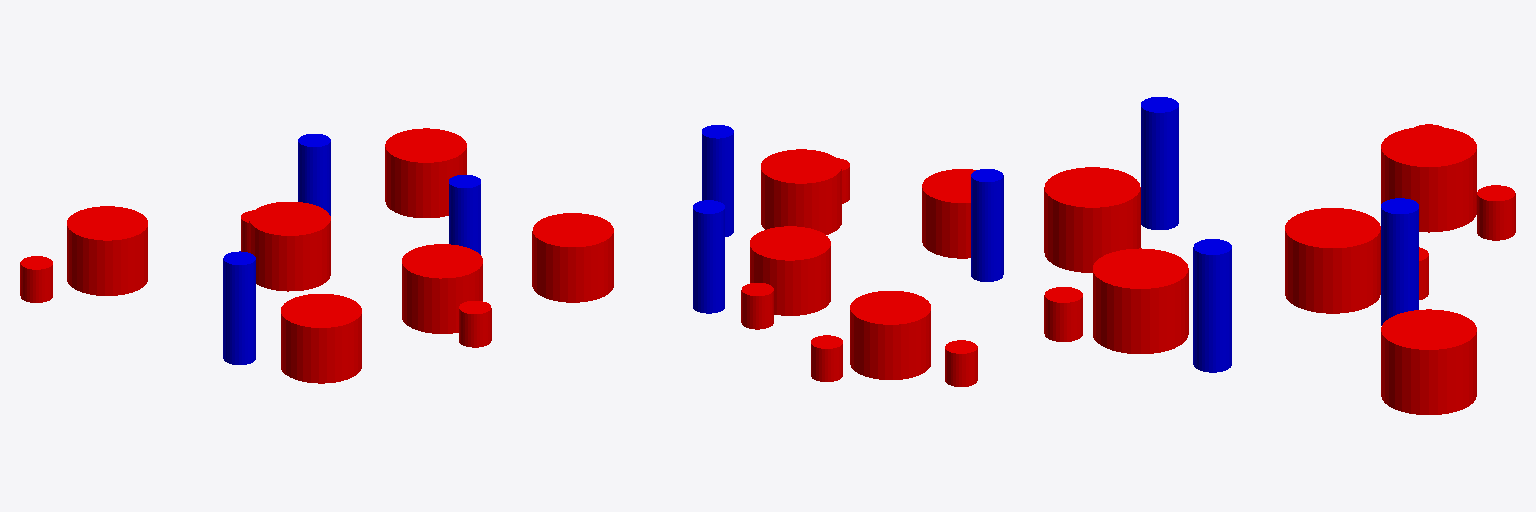
URDF robot description (Obstacles):
<?xml version="1.0" encoding="utf-8"?>
<robot name="Obstacles">
  <link name="obstacle_base_link"></link>

  <link name="table1_link">
    <visual>
      <origin rpy="0 0 0" xyz="1.5 1.0 0.375"/>
      <geometry>
        <cylinder length="0.75" radius="0.5"/>
      </geometry>
      <material name="Red">
        <color rgba="1.0 0.0 0.0 1.0"/>
      </material>
    </visual>
    <collision>
      <origin rpy="0 0 0" xyz="1.5 1.0 0.375"/>
      <geometry>
        <cylinder length="0.75" radius="0.5"/>
      </geometry>
    </collision>
  </link>
  <joint name="table1_link_joint" type="fixed">
    <parent link="obstacle_base_link"/>
    <child link="table1_link"/>
    <origin rpy="0 0 0" xyz="0 0 0"/>
  </joint>

  <link name="chair1_1_link">
    <visual>
      <origin rpy="0 0 0" xyz="0.5 1.0 0.225"/>
      <geometry>
        <cylinder length="0.45" radius="0.2"/>
      </geometry>
      <material name="Red">
        <color rgba="1.0 0.0 0.0 1.0"/>
      </material>
    </visual>
    <collision>
      <origin rpy="0 0 0" xyz="0.5 1.0 0.225"/>
      <geometry>
        <cylinder length="0.45" radius="0.2"/>
      </geometry>
    </collision>
  </link>
  <joint name="chair1_1_link_joint" type="fixed">
    <parent link="obstacle_base_link"/>
    <child link="chair1_1_link"/>
    <origin rpy="0 0 0" xyz="0 0 0"/>
  </joint>

  <link name="chair1_2_link">
    <visual>
      <origin rpy="0 0 0" xyz="2.0 1.7 0.225"/>
      <geometry>
        <cylinder length="0.45" radius="0.2"/>
      </geometry>
      <material name="Red">
        <color rgba="1.0 0.0 0.0 1.0"/>
      </material>
    </visual>
    <collision>
      <origin rpy="0 0 0" xyz="2.0 1.7 0.225"/>
      <geometry>
        <cylinder length="0.45" radius="0.2"/>
      </geometry>
    </collision>
  </link>
  <joint name="chair1_2_link_joint" type="fixed">
    <parent link="obstacle_base_link"/>
    <child link="chair1_2_link"/>
    <origin rpy="0 0 0" xyz="0 0 0"/>
  </joint>

  <link name="table2_link">
    <visual>
      <origin rpy="0 0 0" xyz="2.5 -2.5 0.375"/>
      <geometry>
        <cylinder length="0.75" radius="0.5"/>
      </geometry>
      <material name="Red">
        <color rgba="1.0 0.0 0.0 1.0"/>
      </material>
    </visual>
    <collision>
      <origin rpy="0 0 0" xyz="2.5 -2.5 0.375"/>
      <geometry>
        <cylinder length="0.75" radius="0.5"/>
      </geometry>
    </collision>
  </link>

  <joint name="table2_link_joint" type="fixed">
    <parent link="obstacle_base_link"/>
    <child link="table2_link"/>
    <origin rpy="0 0 0" xyz="0 0 0"/>
  </joint>

  <link name="chair2_1_link">
    <visual>
      <origin rpy="0 0 0" xyz="1.75 -1.8 0.675"/>
      <geometry>
        <cylinder length="1.35" radius="0.2"/>
      </geometry>
      <material name="Blue">
        <color rgba="0.0 0.0 1.0 1.0"/>
      </material>
    </visual>
    <collision>
      <origin rpy="0 0 0" xyz="1.75 -1.8 0.675"/>
      <geometry>
        <cylinder length="1.35" radius="0.2"/>
      </geometry>
    </collision>
  </link>
  <joint name="chair2_1_link_joint" type="fixed">
    <parent link="obstacle_base_link"/>
    <child link="chair2_1_link"/>
    <origin rpy="0 0 0" xyz="0 0 0"/>
  </joint>

  <link name="table3_link">
    <visual>
      <origin rpy="0 0 0" xyz="3.5 0.0 0.375"/>
      <geometry>
        <cylinder length="0.75" radius="0.5"/>
      </geometry>
      <material name="Red">
        <color rgba="1.0 0.0 0.0 1.0"/>
      </material>
    </visual>
    <collision>
      <origin rpy="0 0 0" xyz="3.5 0.0 0.375"/>
      <geometry>
        <cylinder length="0.75" radius="0.5"/>
      </geometry>
    </collision>
  </link>

  <joint name="table3_link_joint" type="fixed">
    <parent link="obstacle_base_link"/>
    <child link="table3_link"/>
    <origin rpy="0 0 0" xyz="0 0 0"/>
  </joint>

  <link name="chair3_1_link">
    <visual>
      <origin rpy="0 0 0" xyz="4.25 0.7 0.675"/>
      <geometry>
        <cylinder length="1.35" radius="0.2"/>
      </geometry>
      <material name="Blue">
        <color rgba="0.0 0.0 1.0 1.0"/>
      </material>
    </visual>
    <collision>
      <origin rpy="0 0 0" xyz="4.25 0.7 0.675"/>
      <geometry>
        <cylinder length="1.35" radius="0.2"/>
      </geometry>
    </collision>
  </link>
  <joint name="chair3_1_link_joint" type="fixed">
    <parent link="obstacle_base_link"/>
    <child link="chair3_1_link"/>
    <origin rpy="0 0 0" xyz="0 0 0"/>
  </joint>

  <!-- <link name="bar_link"> -->
  <!--   <visual> -->
  <!--     <origin rpy="0 0 0" xyz="3.5 -0.3 1.2"/> -->
  <!--     <geometry> -->
  <!--       <box size="0.2 1.0 0.2"/> -->
  <!--     </geometry> -->
  <!--     <material name="Blue"> -->
  <!--       <color rgba="0.0 0.0 1.0 1.0"/> -->
  <!--     </material> -->
  <!--   </visual> -->
  <!--   <collision> -->
  <!--     <origin rpy="0 0 0" xyz="3.5 -0.3 1.2"/> -->
  <!--     <geometry> -->
  <!--       <box size="0.2 1.0 0.2"/> -->
  <!--     </geometry> -->
  <!--   </collision> -->
  <!-- </link> -->
  <!-- <joint name="bar_link_joint" type="fixed"> -->
  <!--   <parent link="obstacle_base_link"/> -->
  <!--   <child link="bar_link"/> -->
  <!--   <origin rpy="0 0 0" xyz="0 0 0"/> -->
  <!-- </joint> -->

  <link name="chair3_2_link">
    <visual>
      <origin rpy="0 0 0" xyz="3.5 0.8 0.225"/>
      <geometry>
        <cylinder length="0.45" radius="0.2"/>
      </geometry>
      <material name="Red">
        <color rgba="1.0 0.0 0.0 1.0"/>
      </material>
    </visual>
    <collision>
      <origin rpy="0 0 0" xyz="3.5 0.8 0.225"/>
      <geometry>
        <cylinder length="0.45" radius="0.2"/>
      </geometry>
    </collision>
  </link>
  <joint name="chair3_2_link_joint" type="fixed">
    <parent link="obstacle_base_link"/>
    <child link="chair3_2_link"/>
    <origin rpy="0 0 0" xyz="0 0 0"/>
  </joint>

  <link name="table4_link">
    <visual>
      <origin rpy="0 0 0" xyz="4.5 -2.0 0.375"/>
      <geometry>
        <cylinder length="0.75" radius="0.5"/>
      </geometry>
      <material name="Red">
        <color rgba="1.0 0.0 0.0 1.0"/>
      </material>
    </visual>
    <collision>
      <origin rpy="0 0 0" xyz="4.5 -2.0 0.375"/>
      <geometry>
        <cylinder length="0.75" radius="0.5"/>
      </geometry>
    </collision>
  </link>

  <joint name="table4_link_joint" type="fixed">
    <parent link="obstacle_base_link"/>
    <child link="table4_link"/>
    <origin rpy="0 0 0" xyz="0 0 0"/>
  </joint>

  <link name="chair4_1_link">
    <visual>
      <origin rpy="0 0 0" xyz="4.5 -2.8 0.225"/>
      <geometry>
        <cylinder length="0.45" radius="0.2"/>
      </geometry>
      <material name="Red">
        <color rgba="1.0 0.0 0.0 1.0"/>
      </material>
    </visual>
    <collision>
      <origin rpy="0 0 0" xyz="4.5 -2.8 0.225"/>
      <geometry>
        <cylinder length="0.45" radius="0.2"/>
      </geometry>
    </collision>
  </link>
  <joint name="chair4_1_link_joint" type="fixed">
    <parent link="obstacle_base_link"/>
    <child link="chair4_1_link"/>
    <origin rpy="0 0 0" xyz="0 0 0"/>
  </joint>

  <link name="chair4_2_link">
    <visual>
      <origin rpy="0 0 0" xyz="5.25 -1.25 0.675"/>
      <geometry>
        <cylinder length="1.35" radius="0.2"/>
      </geometry>
      <material name="Blue">
        <color rgba="0.0 0.0 1.0 1.0"/>
      </material>
    </visual>
    <collision>
      <origin rpy="0 0 0" xyz="5.25 -1.25 0.675"/>
      <geometry>
        <cylinder length="1.35" radius="0.2"/>
      </geometry>
    </collision>
  </link>
  <joint name="chair4_2_link_joint" type="fixed">
    <parent link="obstacle_base_link"/>
    <child link="chair4_2_link"/>
    <origin rpy="0 0 0" xyz="0 0 0"/>
  </joint>

  <link name="table5_link">
    <visual>
      <origin rpy="0 0 0" xyz="6.0 1.0 0.375"/>
      <geometry>
        <cylinder length="0.75" radius="0.5"/>
      </geometry>
      <material name="Red">
        <color rgba="1.0 0.0 0.0 1.0"/>
      </material>
    </visual>
    <collision>
      <origin rpy="0 0 0" xyz="6.0 1.0 0.375"/>
      <geometry>
        <cylinder length="0.75" radius="0.5"/>
      </geometry>
    </collision>
  </link>

  <joint name="table5_link_joint" type="fixed">
    <parent link="obstacle_base_link"/>
    <child link="table5_link"/>
    <origin rpy="0 0 0" xyz="0 0 0"/>
  </joint>

  <!-- <link name="chair5_1_link"> -->
  <!--   <visual> -->
  <!--     <origin rpy="0 0 0" xyz="6.0 0.0 0.225"/> -->
  <!--     <geometry> -->
  <!--       <cylinder length="0.45" radius="0.2"/> -->
  <!--     </geometry> -->
  <!--     <material name="Red"> -->
  <!--       <color rgba="1.0 0.0 0.0 1.0"/> -->
  <!--     </material> -->
  <!--   </visual> -->
  <!--   <collision> -->
  <!--     <origin rpy="0 0 0" xyz="6.0 0.0 0.225"/> -->
  <!--     <geometry> -->
  <!--       <cylinder length="0.45" radius="0.2"/> -->
  <!--     </geometry> -->
  <!--   </collision> -->
  <!-- </link> -->
  <!-- <joint name="chair5_1_link_joint" type="fixed"> -->
  <!--   <parent link="obstacle_base_link"/> -->
  <!--   <child link="chair5_1_link"/> -->
  <!--   <origin rpy="0 0 0" xyz="0 0 0"/> -->
  <!-- </joint> -->

</robot>

--- Facts derived from the render (not from the file) ---
The picture shows the robot from 3 angles, left to right: view 1: azimuth 30°, elevation 25°; view 2: azimuth 150°, elevation 25°; view 3: azimuth 270°, elevation 25°; orthographic projection.
Robot: Obstacles — 13 links, 12 joints (12 fixed); root link obstacle_base_link; default pose: every joint at zero.
Visible links, largest first — view 1: table1_link, table2_link, table3_link, table5_link, table4_link, chair2_1_link, chair3_1_link, chair4_2_link, chair1_1_link, chair4_1_link; view 2: table5_link, table1_link, table4_link, table3_link, table2_link, chair2_1_link, chair3_1_link, chair4_2_link, chair1_1_link, chair3_2_link, chair1_2_link; view 3: table3_link, table5_link, table4_link, table2_link, table1_link, chair4_2_link, chair2_1_link, chair3_1_link, chair1_2_link, chair4_1_link.
Boxes of the visible links, bbox=[...] form: table1_link: bbox=[67, 206, 147, 295]; table2_link: bbox=[281, 294, 361, 383]; table3_link: bbox=[249, 202, 330, 291]; table5_link: bbox=[385, 128, 466, 217]; table4_link: bbox=[402, 244, 482, 333]; chair2_1_link: bbox=[223, 251, 255, 364]; chair3_1_link: bbox=[298, 134, 330, 215]; chair4_2_link: bbox=[449, 175, 480, 254]; chair1_1_link: bbox=[20, 256, 52, 302]; chair4_1_link: bbox=[459, 301, 491, 347]; table5_link: bbox=[532, 213, 613, 302]; table1_link: bbox=[850, 291, 930, 379]; table4_link: bbox=[761, 149, 841, 234]; table3_link: bbox=[750, 226, 830, 315]; table2_link: bbox=[922, 169, 975, 258]; chair2_1_link: bbox=[971, 169, 1003, 281]; chair3_1_link: bbox=[693, 200, 724, 313]; chair4_2_link: bbox=[702, 125, 733, 236]; chair1_1_link: bbox=[945, 340, 977, 386]; chair3_2_link: bbox=[741, 283, 773, 329]; chair1_2_link: bbox=[811, 335, 842, 381]; table3_link: bbox=[1285, 208, 1380, 313]; table5_link: bbox=[1381, 309, 1476, 414]; table4_link: bbox=[1093, 248, 1188, 353]; table2_link: bbox=[1044, 167, 1140, 272]; table1_link: bbox=[1381, 127, 1476, 232]; chair4_2_link: bbox=[1193, 239, 1231, 372]; chair2_1_link: bbox=[1141, 97, 1178, 229]; chair3_1_link: bbox=[1381, 198, 1418, 325]; chair1_2_link: bbox=[1477, 185, 1515, 240]; chair4_1_link: bbox=[1044, 287, 1082, 341].
Size in the robot's own frame: 6.2 by 4.9 by 1.35 metres.
Geometry: primitives only (box / cylinder / sphere), no mesh files.